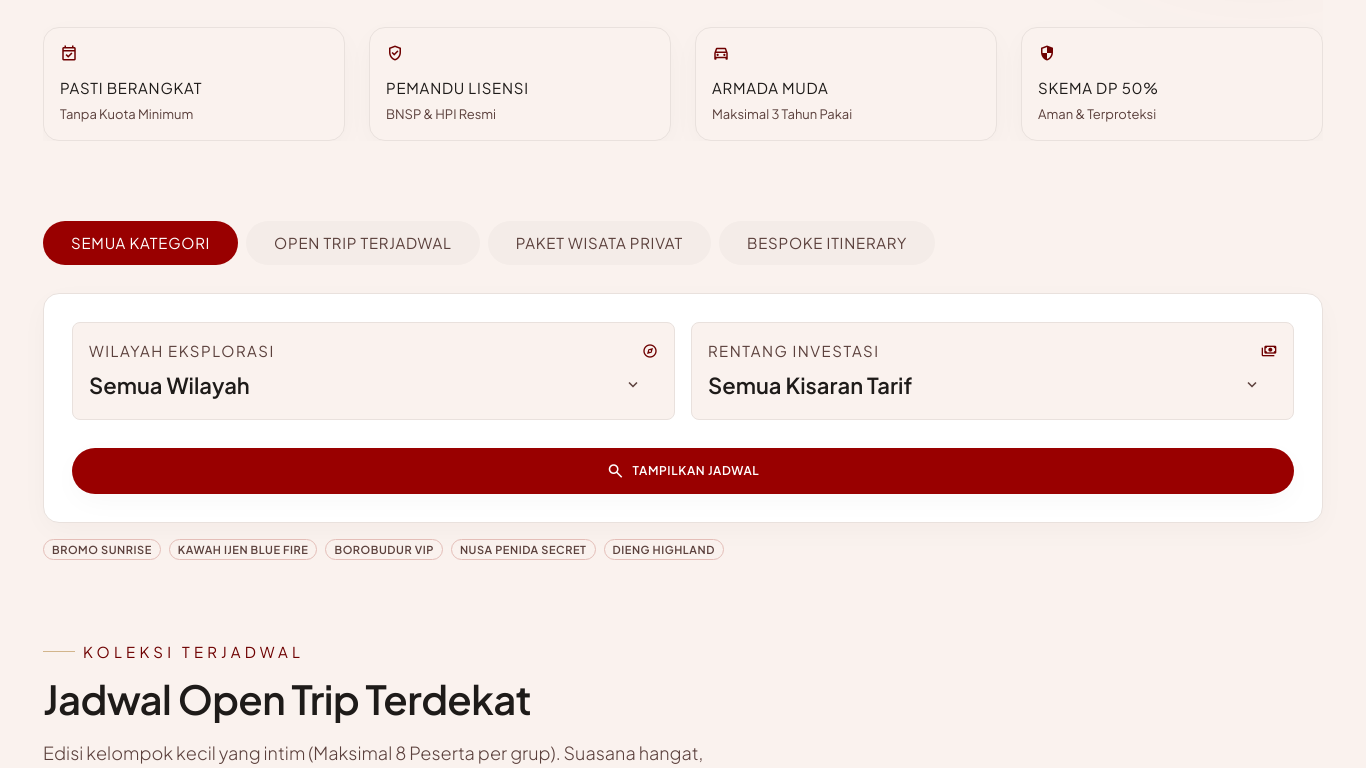
filtering › explains an empty result rather than rendering a blank grid
(page scrolled)
Select "Eksotisme ASEAN" in the dropdown named "Wilayah Eksplorasi" at (374, 385), box [89, 367, 658, 403]
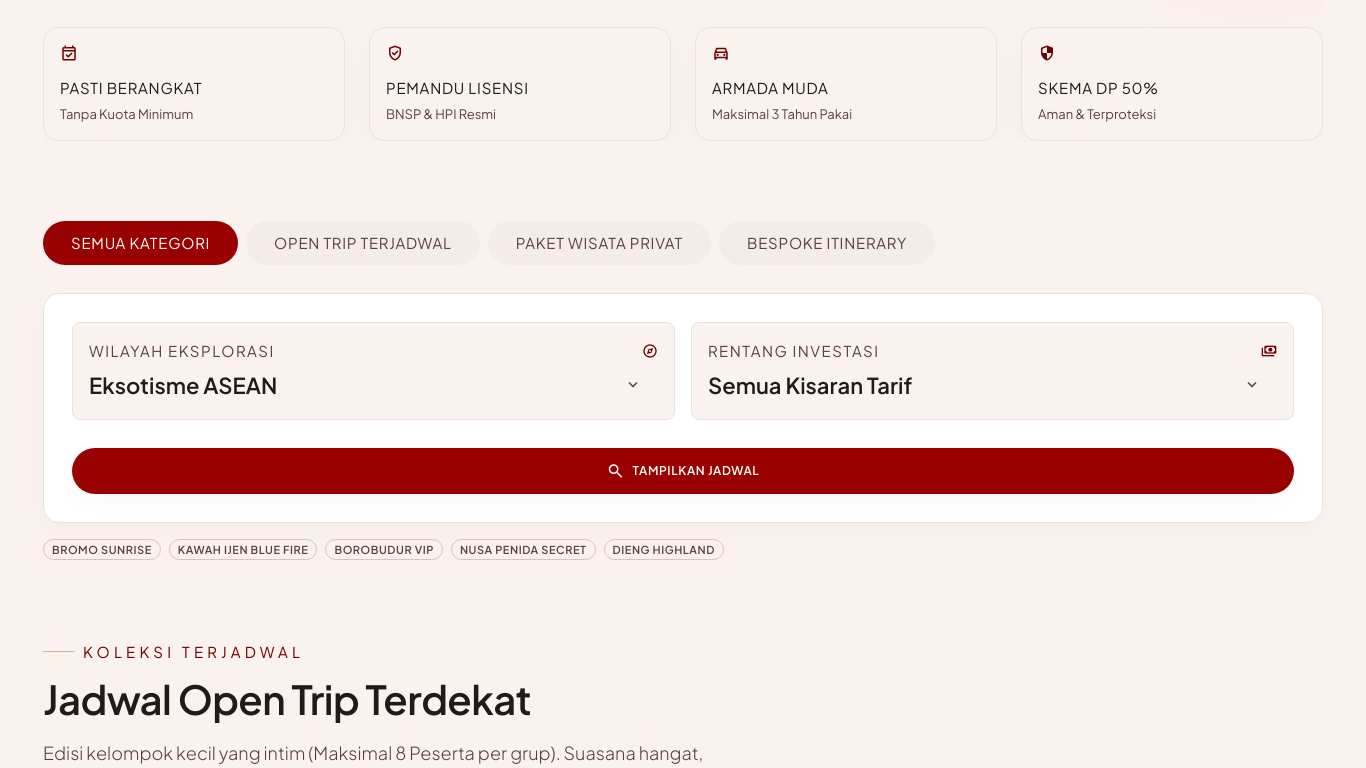
Click the button "Tampilkan Jadwal".
click(683, 471)  # box [72, 448, 1294, 494]
(page scrolled)
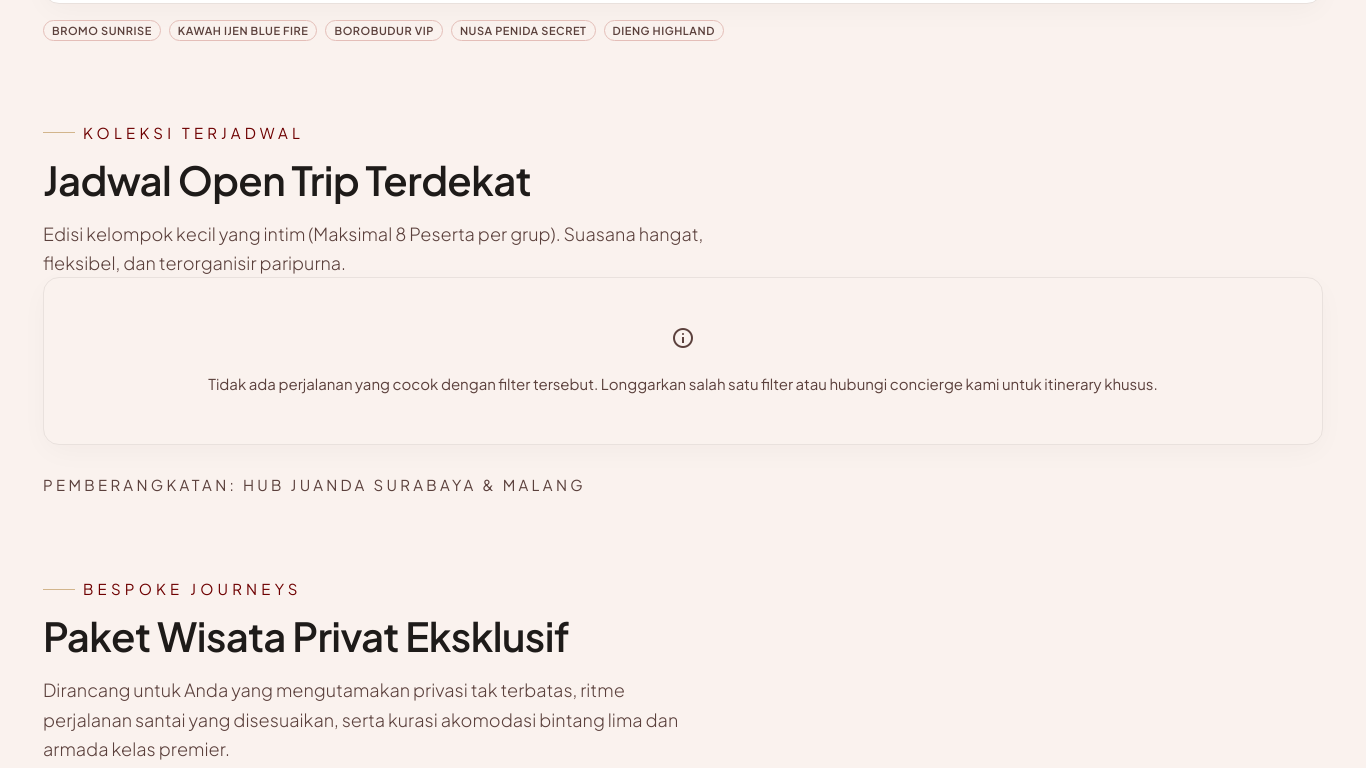
Result: the text "Tidak ada perjalanan yang cocok" is shown at [208, 374, 1158, 393]
